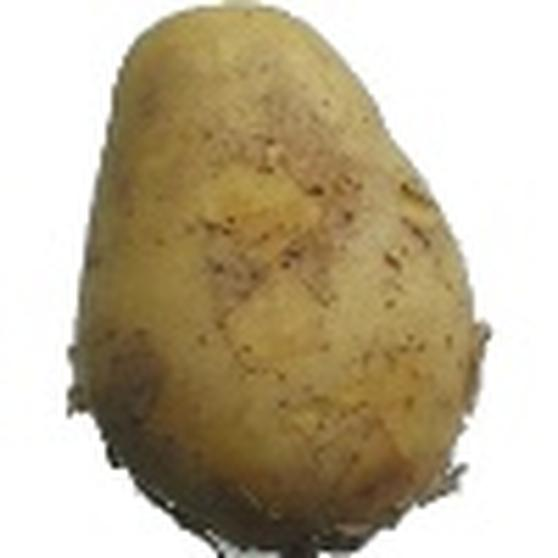potato: (51, 4, 491, 554)
